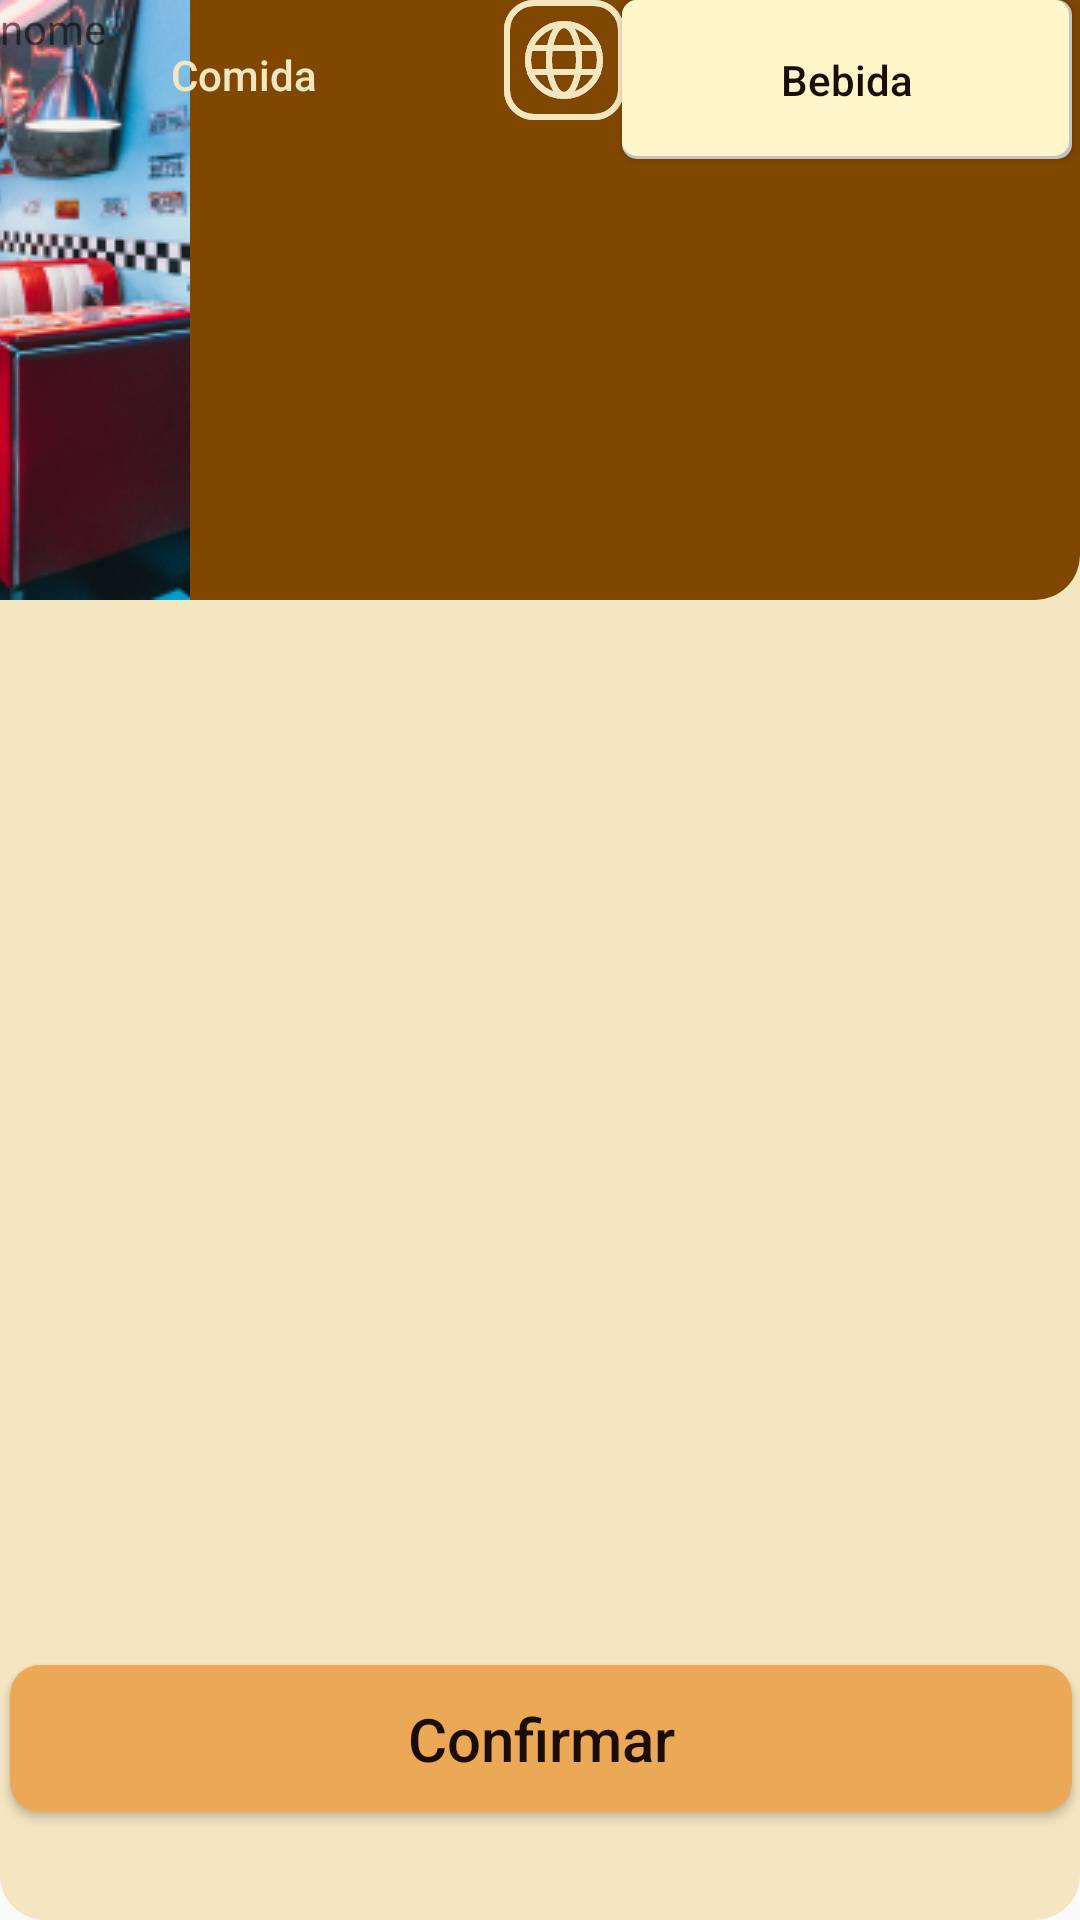

Icon bounding boxes for this 1080*1920 phone screenshot, format bbox(x1, y1, x2, y2):
globo: bbox(525, 21, 603, 99)
